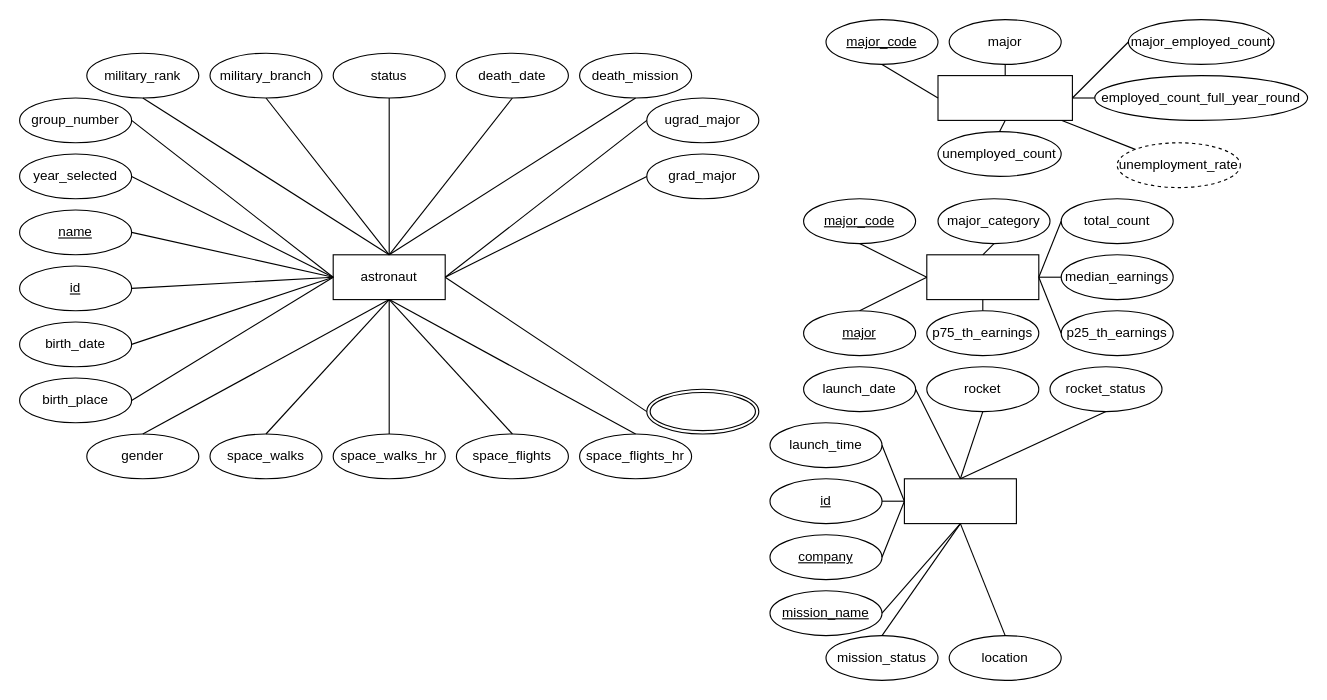
Some shapes in this 1327 by 700 pixel diagram are drawn without their labels. The centre of each missing label's shape, as x and y in pixels:
"college_earnings" belongs at [982,277].
"college_employment" belongs at [1004,97].
"missions" belongs at [702,411].
"space_missions" belongs at [959,501].
